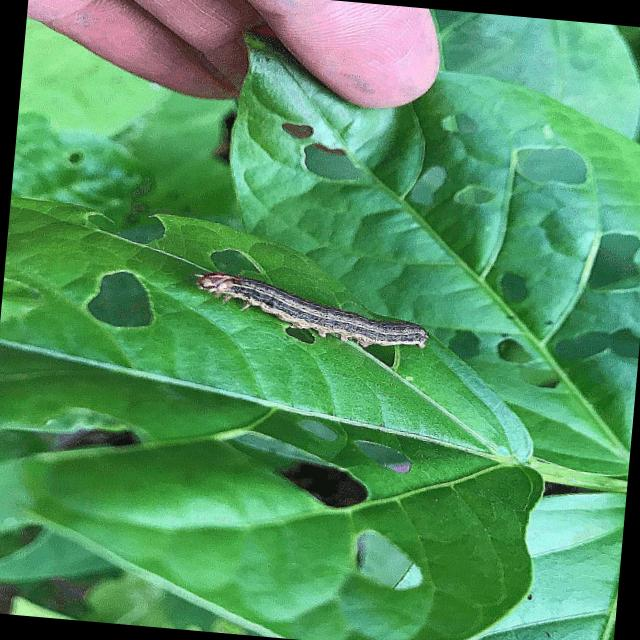Armyworm: (178, 254, 452, 358)
Armyworm_damage: (216, 426, 382, 518), (316, 512, 443, 608), (65, 267, 172, 354), (490, 137, 627, 198), (65, 200, 195, 255), (549, 316, 640, 380), (287, 136, 374, 202), (579, 220, 640, 305), (396, 154, 465, 221), (346, 426, 421, 487), (486, 326, 552, 380), (435, 323, 487, 377), (429, 100, 486, 147), (451, 169, 505, 218), (490, 263, 539, 315), (269, 117, 327, 146)
